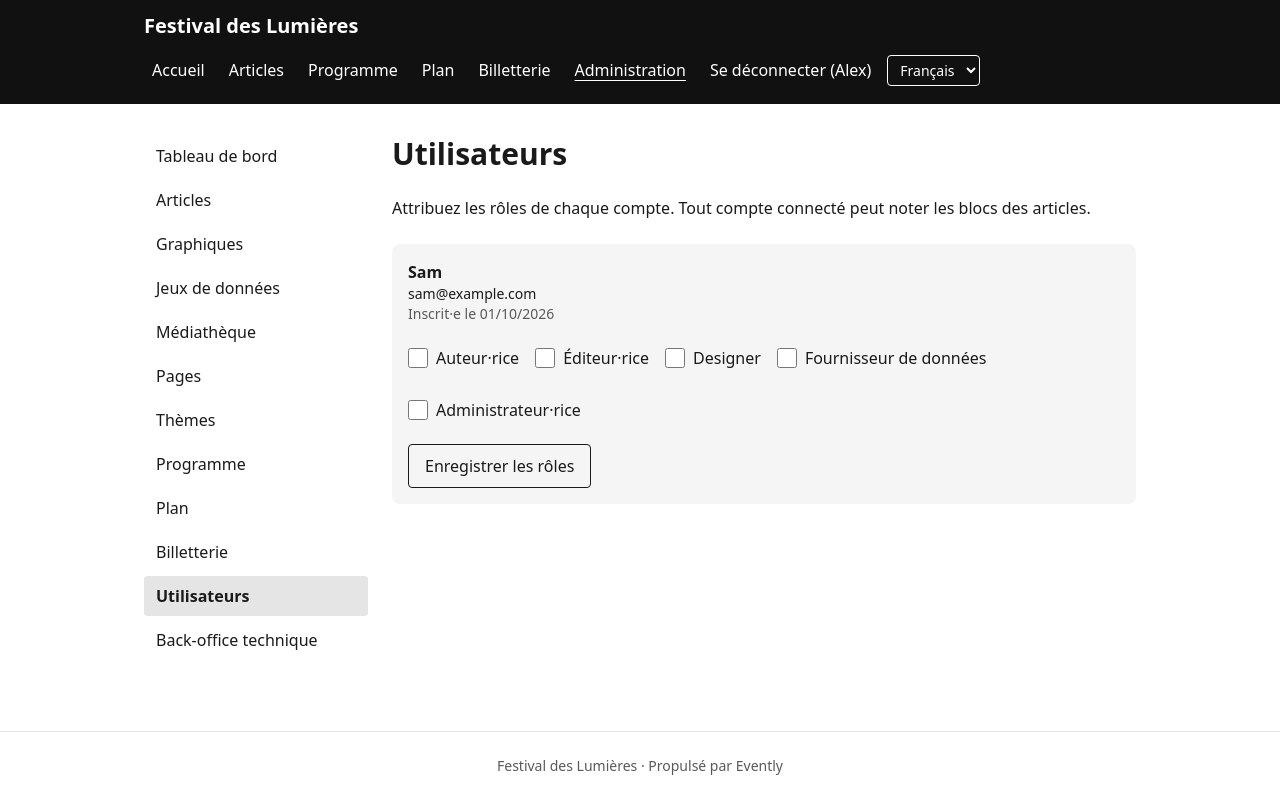
it: admin › lets an admin grant roles
Click the checkbox labelled "Auteur·rice" at (418,358), box [408,348,428,368]
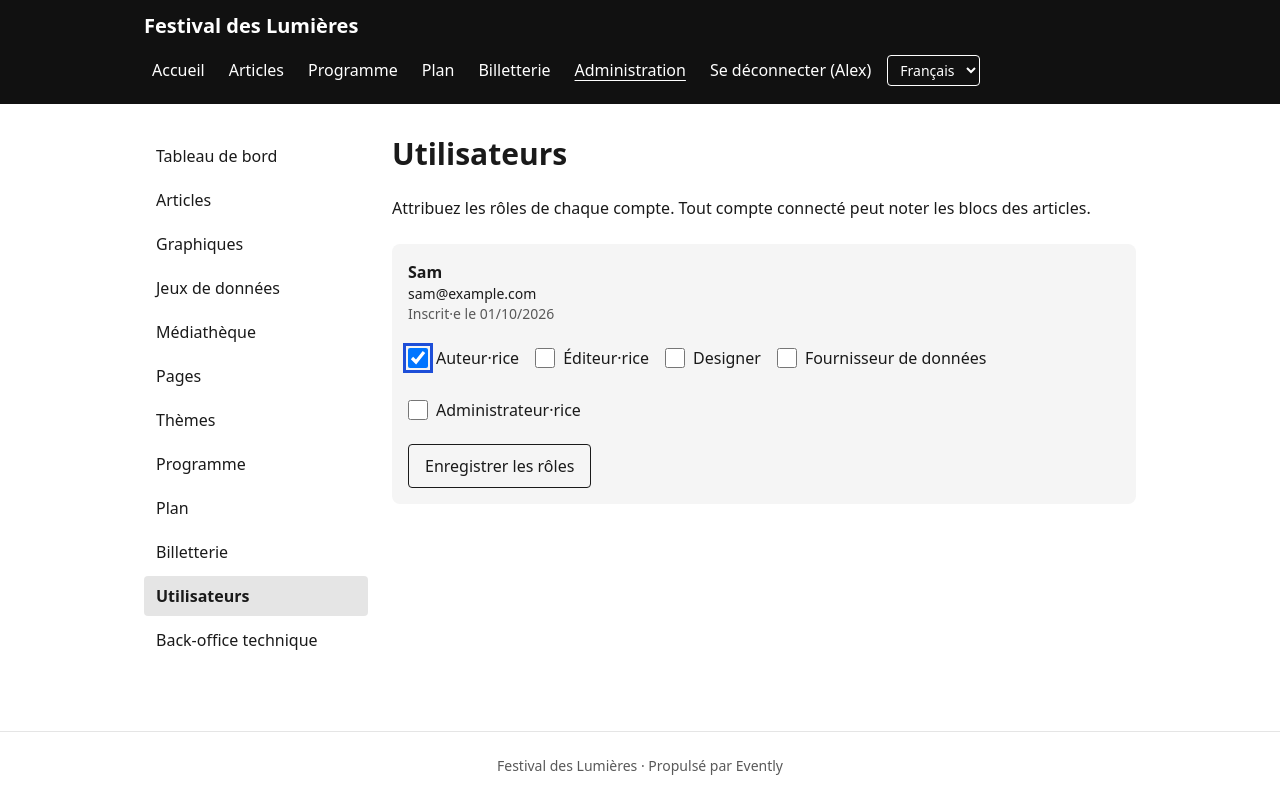
Click the button "Enregistrer les rôles" at (500,466), box [408,444,591,488]
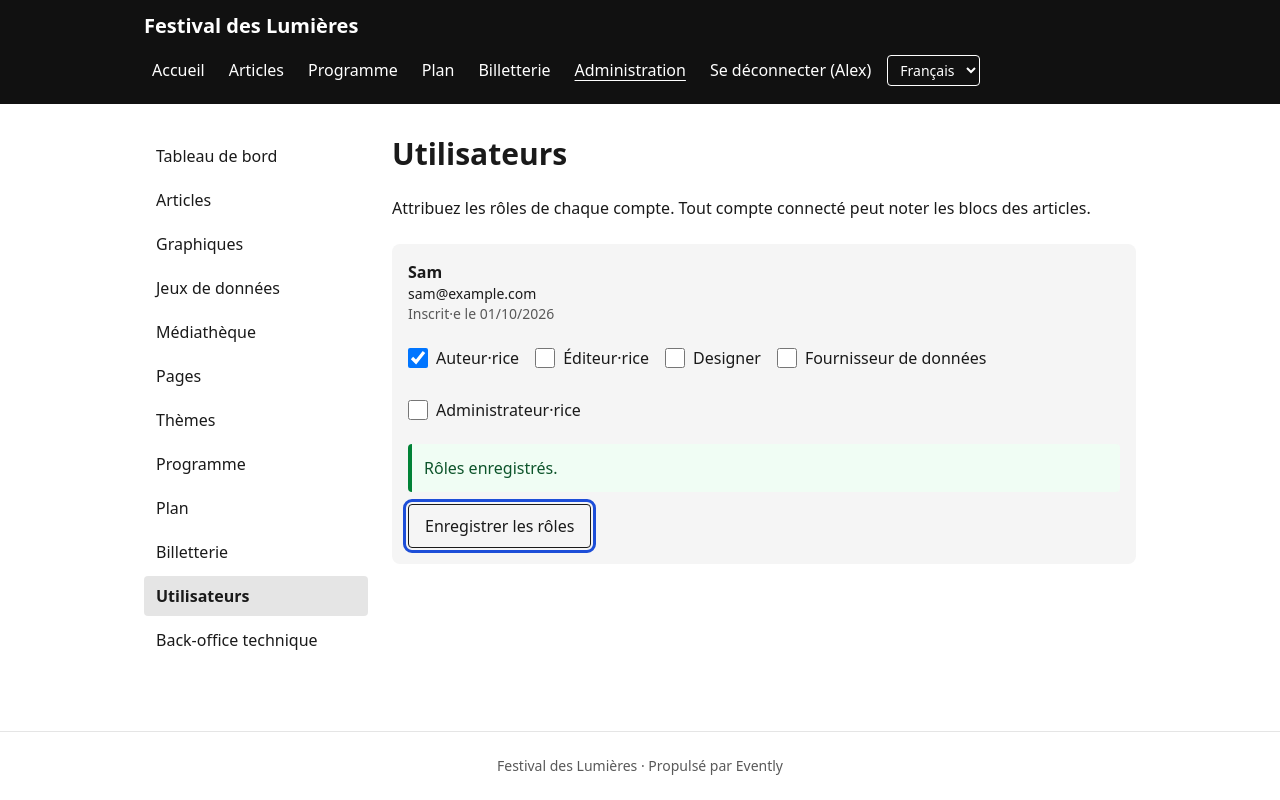
Result: the text "Rôles enregistrés." is shown at [408,444,1120,492]
